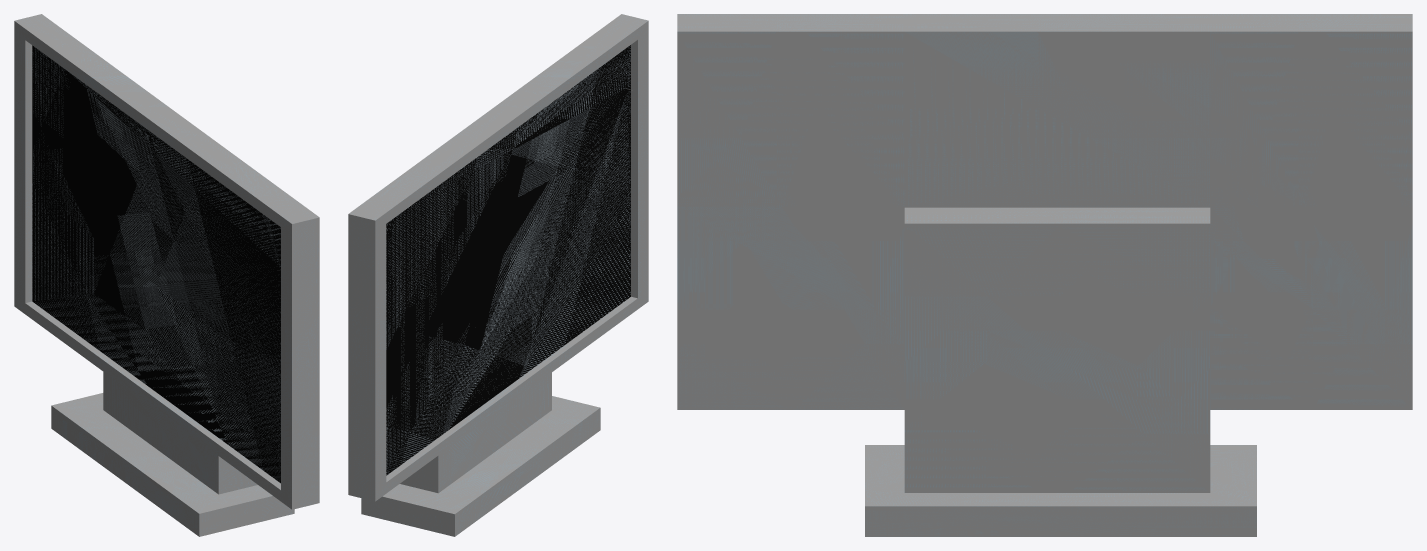
3 views of the same model, side by side, from view 1: azimuth 30°, elevation 25°; view 2: azimuth 150°, elevation 25°; view 3: azimuth 270°, elevation 25° (orthographic). The views are drawn at different scales.
Visible parts, largest first — view 1: SketchUp (×3); view 2: SketchUp (×3); view 3: SketchUp (×2).
Boxes of the visible parts, box(x1,y1,x2,y2) form: SketchUp (×3): box(14, 14, 319, 536); SketchUp (×3): box(348, 14, 648, 536); SketchUp (×2): box(677, 14, 1412, 536).
Bounding box in the file's own units: 4.31 × 21.81 × 15.56.
